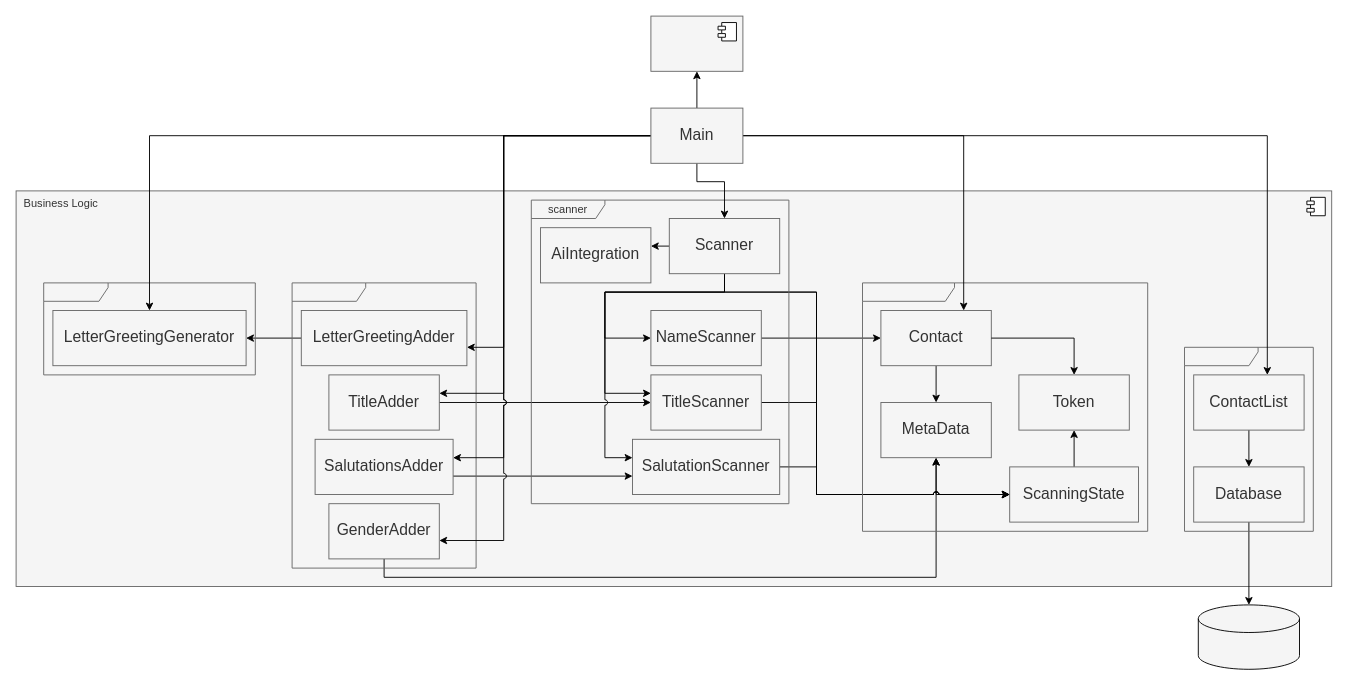
Some shapes in this 1348 by 685 pixel diagram are drawn without their labels. The centre of each missing label's shape, as x and y in pixels:
ContactCatabase: point (1248, 636)
data_store: point (1248, 438)
data_structures: point (1005, 406)
generator: point (149, 328)
persistency: point (383, 425)
UI: point (696, 43)
